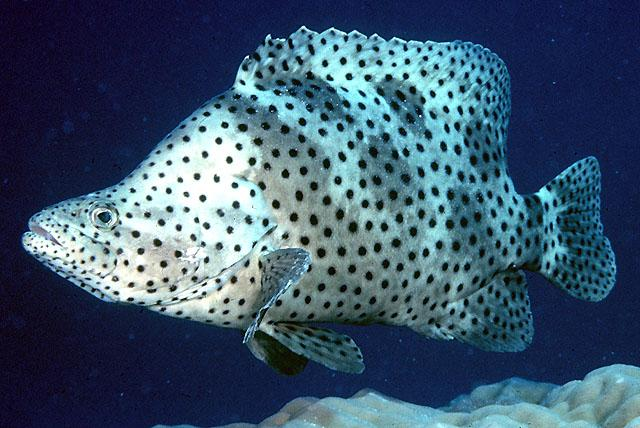Mulut: (11, 195, 75, 279)
Sirip Anal: (432, 260, 540, 364)
Sirip Dada: (239, 240, 309, 344)
Sirip Ekor: (534, 152, 624, 306)
Sirip Perut: (241, 316, 377, 388)
Sirip Punggung: (228, 19, 530, 171)
